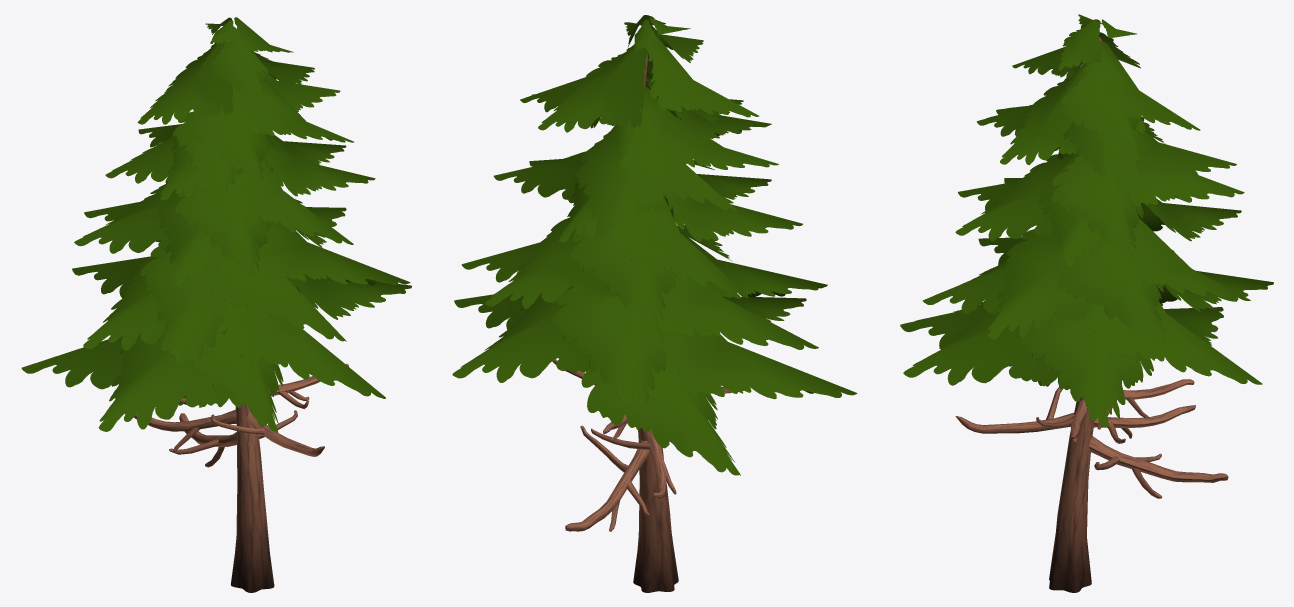
Rendered from Pine_1.gltf.
3 views of the same model, side by side, from view 1: azimuth 30°, elevation 25°; view 2: azimuth 150°, elevation 25°; view 3: azimuth 270°, elevation 25° (orthographic). The views are drawn at different scales.
Visible parts, largest first — view 1: Pine_1; view 2: Pine_1; view 3: Pine_1.
Boxes of the visible parts, box(x1,y1,x2,y2) form: Pine_1: box(21, 17, 411, 592); Pine_1: box(452, 15, 857, 592); Pine_1: box(900, 14, 1273, 592).
Bounding box in the file's own units: 4.94 × 7.32 × 4.54.
Materials: 2 (2 with a texture image).
